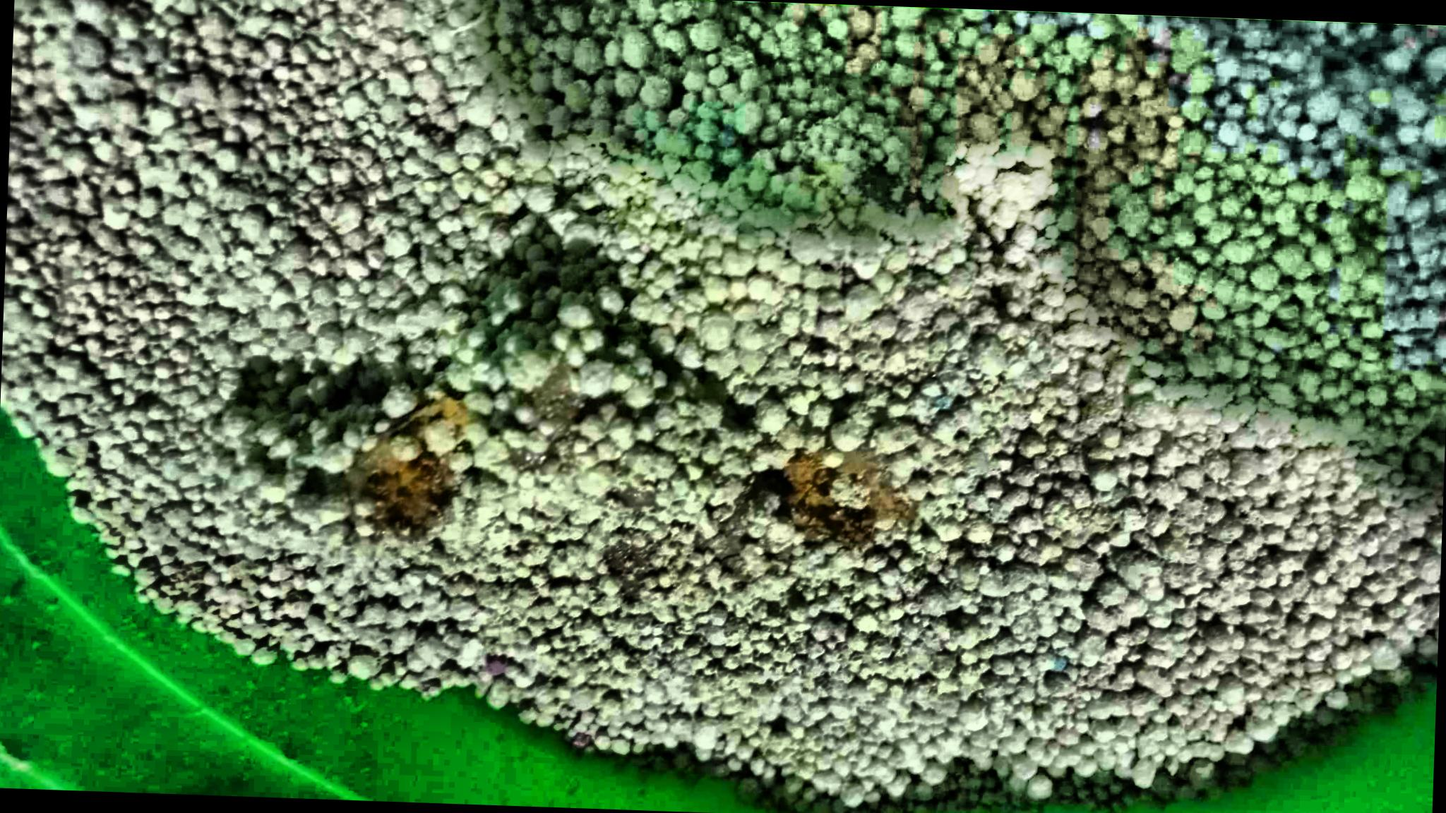poop: (222, 306, 932, 626)
